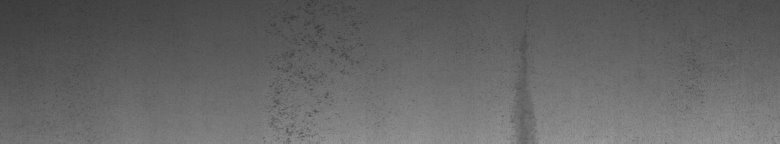ib: (268, 4, 368, 136)
